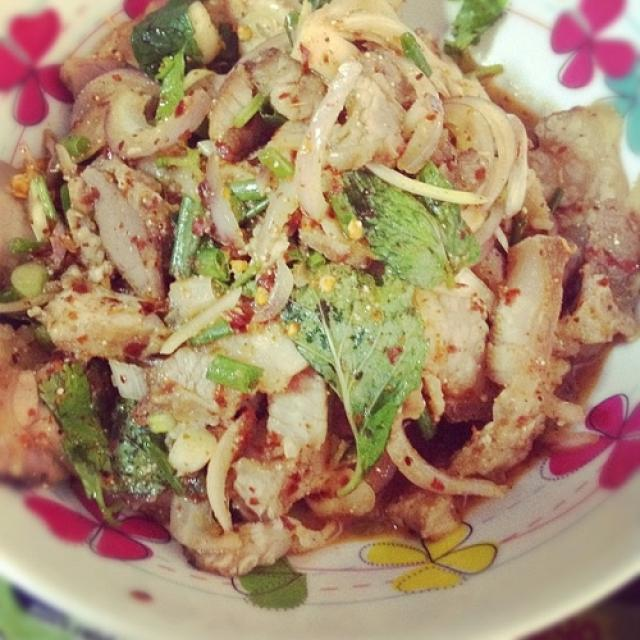猪肉菜式: (23, 23, 630, 629)
